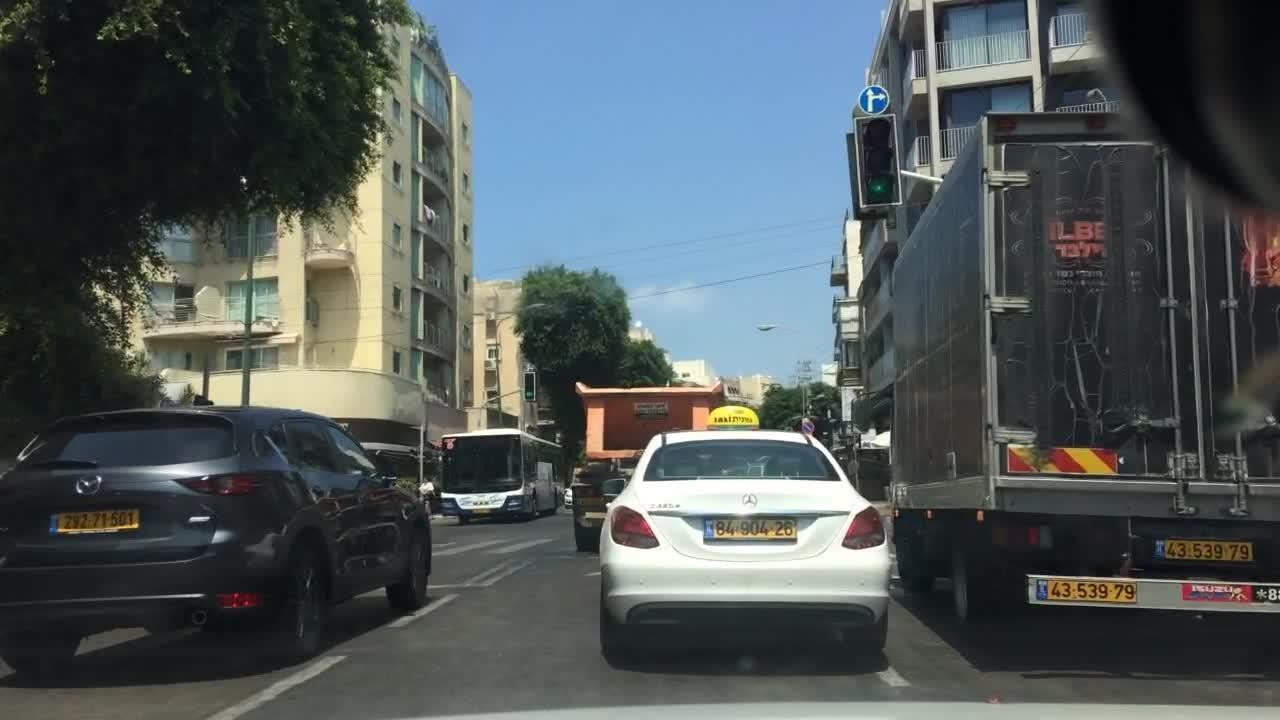Mazda: (61, 465, 120, 511)
Mercedes: (734, 489, 764, 513)
